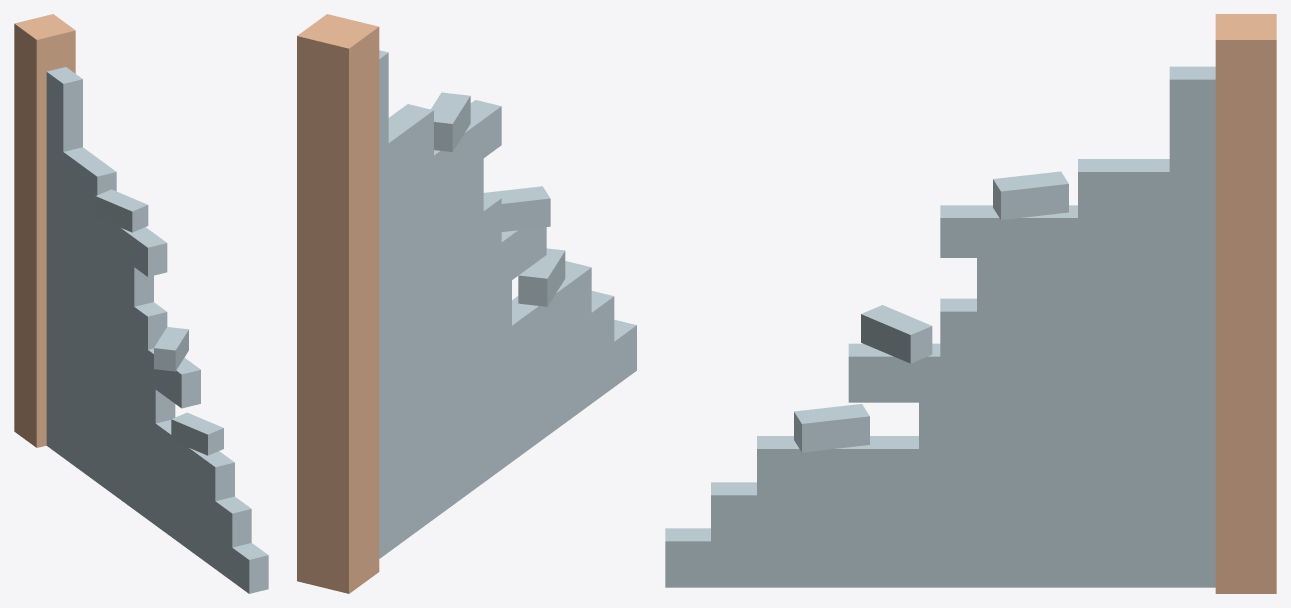
File: wallBroken.glb
3 renders of one model, left to right at view 1: azimuth 30°, elevation 25°; view 2: azimuth 150°, elevation 25°; view 3: azimuth 270°, elevation 25°, orthographic. The views are drawn at different scales.
Visible parts, largest first — view 1: wallBroken; view 2: wallBroken; view 3: wallBroken.
Part boxes in pixels (box(x1,y1,x2,y2)): wallBroken: box(14, 14, 268, 593); wallBroken: box(297, 14, 636, 593); wallBroken: box(665, 14, 1276, 593).
Size of the model in its own units: 0.1168 by 1 by 1.
